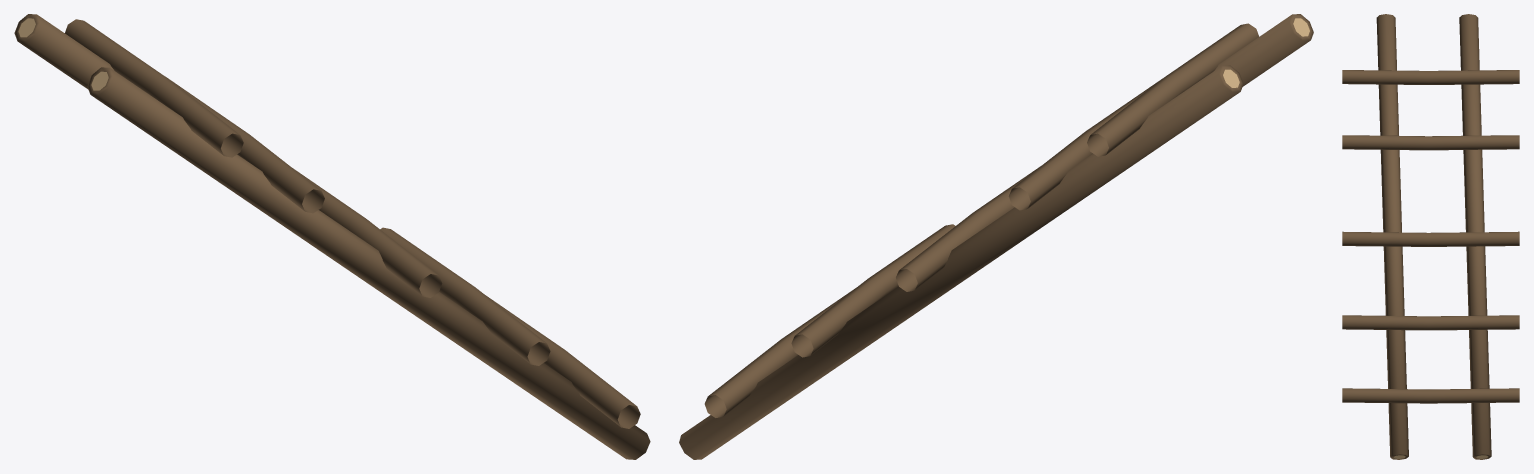
The model's file is rpgpp_ag_roof_support_01_9x4x3_roof_01b_half_b.fbx.
3 renders of one model, left to right at view 1: azimuth 30°, elevation 25°; view 2: azimuth 150°, elevation 25°; view 3: azimuth 270°, elevation 25°, orthographic. The views are drawn at different scales.
Visible parts, largest first — view 1: rpgpp_ag_roof_support_01_9x4x3_roof_01b_half_b; view 2: rpgpp_ag_roof_support_01_9x4x3_roof_01b_half_b; view 3: rpgpp_ag_roof_support_01_9x4x3_roof_01b_half_b.
Part boxes in pixels (x1,y1,x2,y2): rpgpp_ag_roof_support_01_9x4x3_roof_01b_half_b: (14,14,650,459); rpgpp_ag_roof_support_01_9x4x3_roof_01b_half_b: (679,14,1313,459); rpgpp_ag_roof_support_01_9x4x3_roof_01b_half_b: (1342,14,1519,459).
Bounding box in the file's own units: 6.31 × 5.6 × 3.
